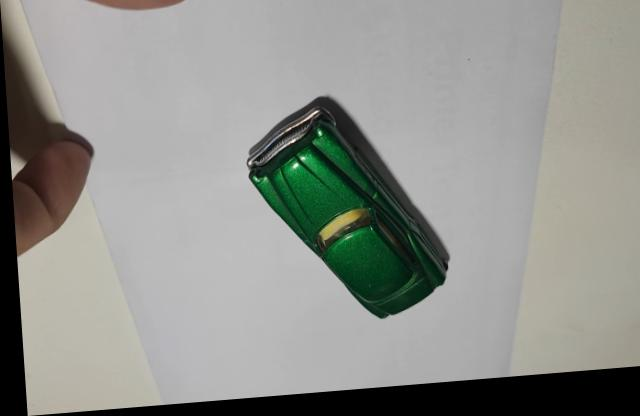06_MASERATI: (243, 100, 446, 324)
